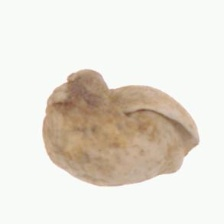L1: (172, 121, 199, 174)
L2: (43, 69, 200, 188)
